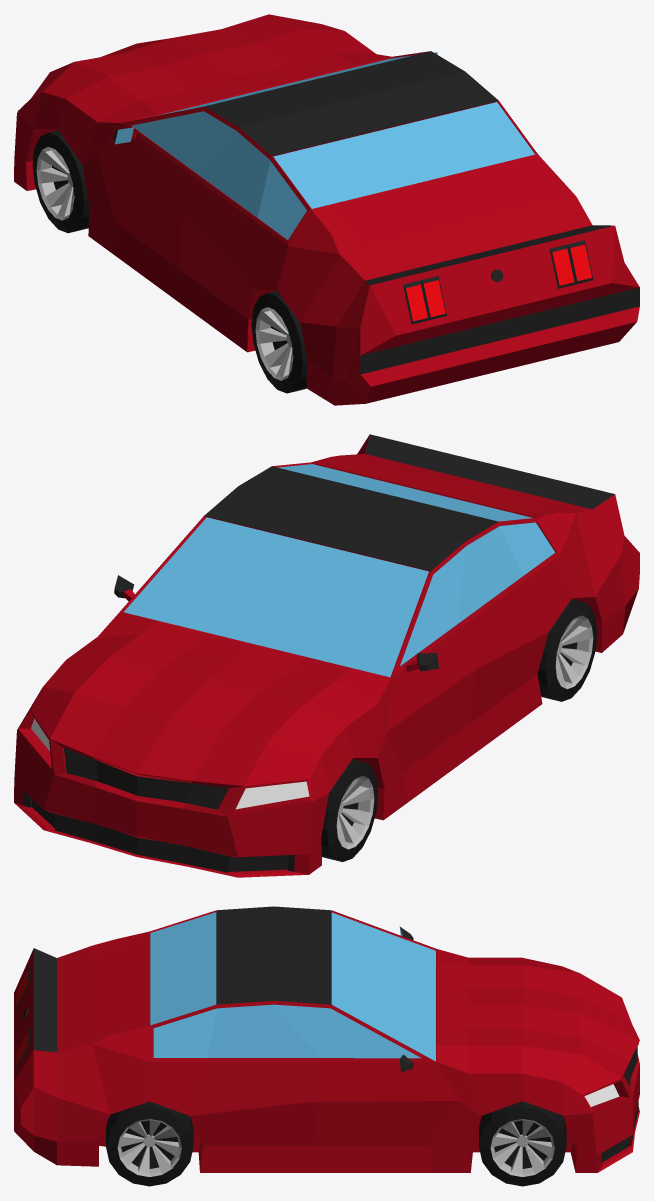
File: CarFBX.fbx
3 renders of one model, top to bottom at view 1: azimuth 30°, elevation 25°; view 2: azimuth 150°, elevation 25°; view 3: azimuth 270°, elevation 25°, orthographic. The views are drawn at different scales.
Visible parts, largest first — view 1: Car; view 2: Car; view 3: Car.
Part boxes in pixels (<box>): Car: <box>14,14,639,405</box>; Car: <box>14,434,639,877</box>; Car: <box>14,906,639,1186</box>.
Bounding box in the file's own units: 225 × 133 × 440.
